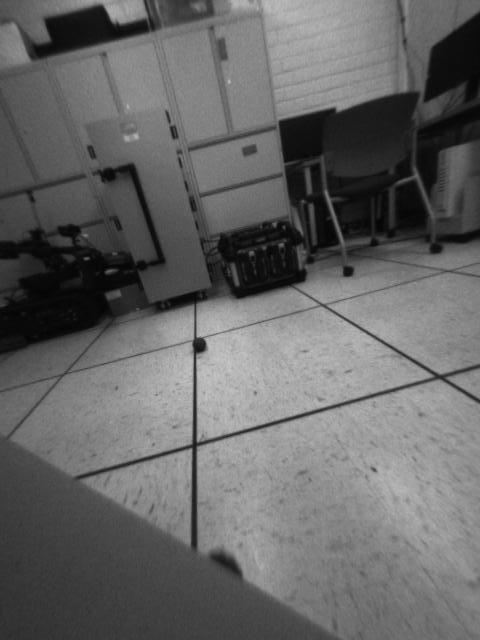dogtoy: (184, 327, 213, 359)
